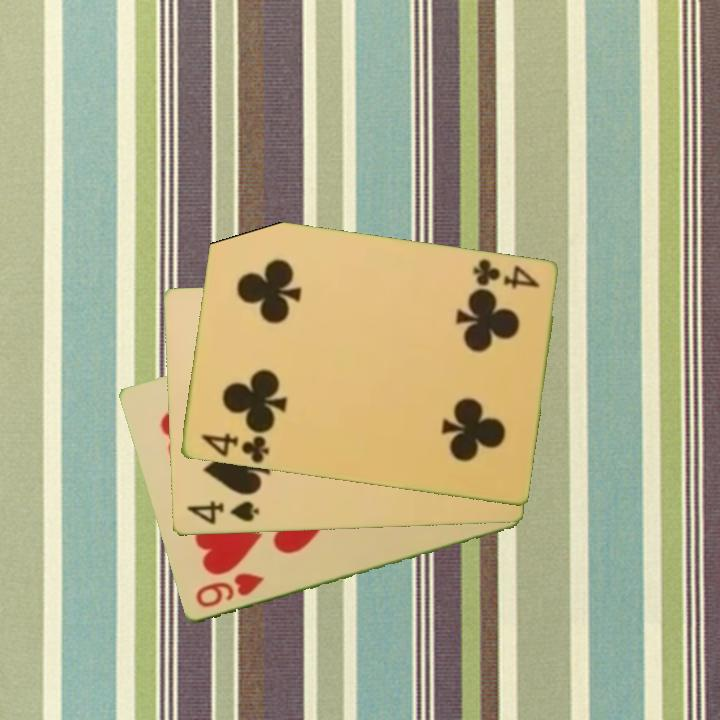4c: (468, 255, 542, 293), (197, 429, 271, 466)
4s: (182, 498, 262, 528)
9h: (192, 569, 267, 611)
